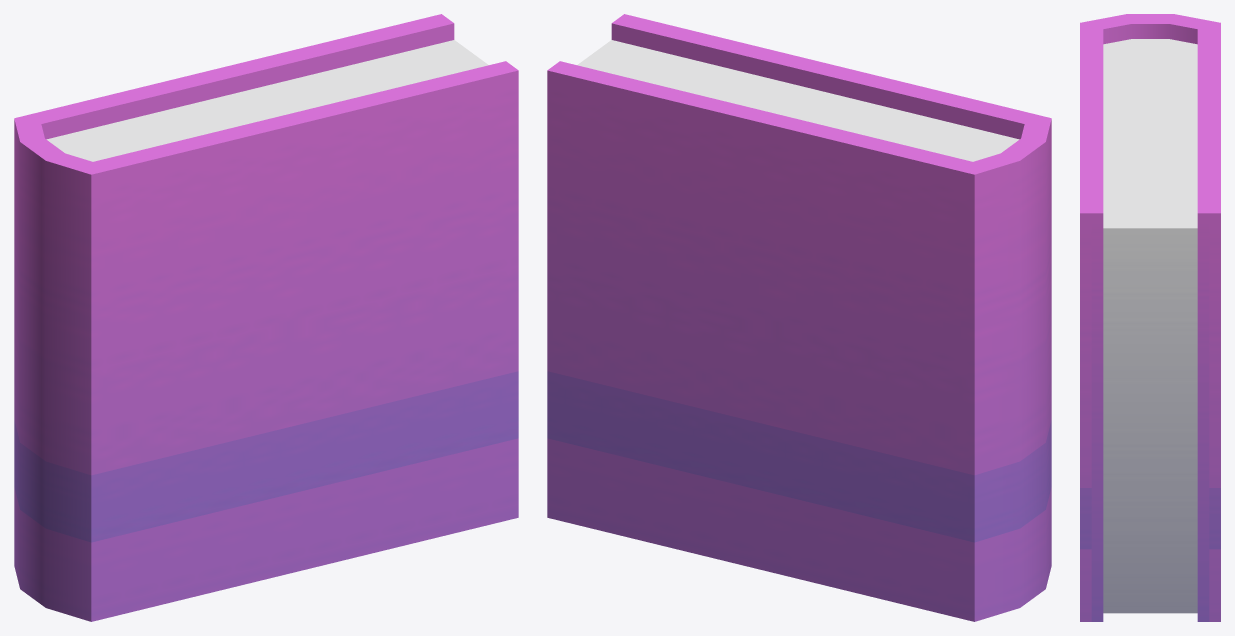
The model's file is book-5.fbx.
The picture shows the model from 3 angles, left to right: view 1: azimuth 30°, elevation 25°; view 2: azimuth 150°, elevation 25°; view 3: azimuth 270°, elevation 25°; orthographic projection. The views are drawn at different scales.
Parts seen in each view (by area): view 1: book-5; view 2: book-5; view 3: book-5.
Boxes of the visible parts, <box> form: book-5: <box>14,14,518,621</box>; book-5: <box>547,14,1051,621</box>; book-5: <box>1080,14,1220,621</box>.
Size of the model in its own units: 0.1293 by 0.0386 by 0.1236.
